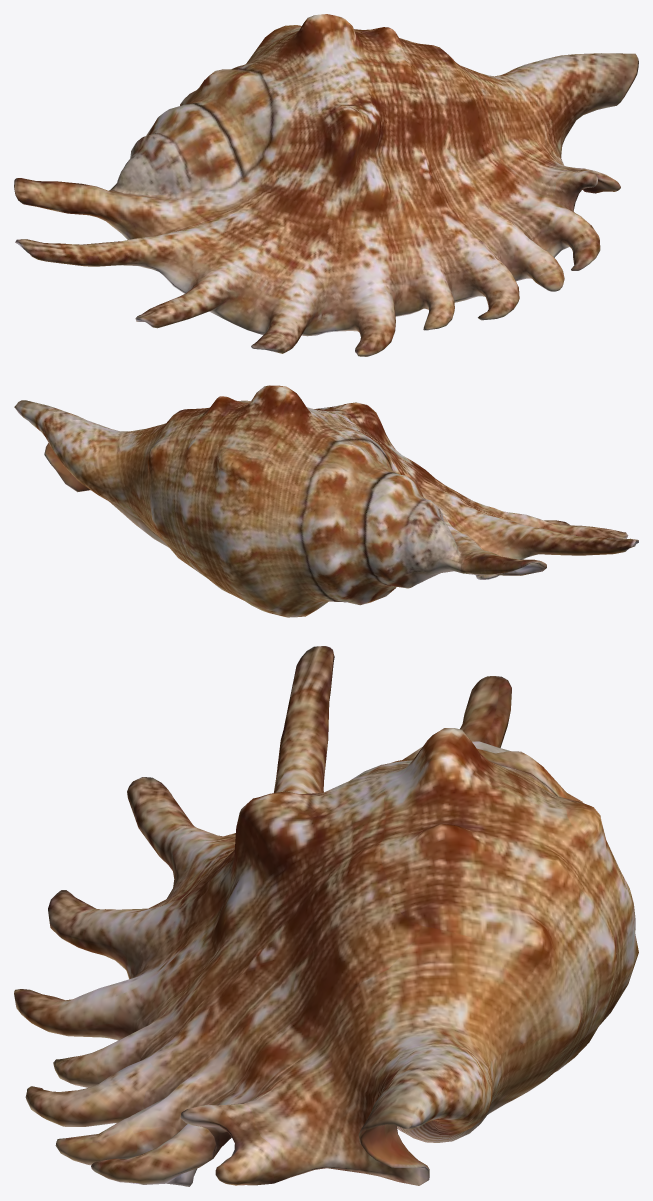
Rendered from lambis_shell.glb.
3 renders of one model, top to bottom at view 1: azimuth 30°, elevation 25°; view 2: azimuth 150°, elevation 25°; view 3: azimuth 270°, elevation 25°, orthographic. The views are drawn at different scales.
Parts seen in each view (by area): view 1: lambis_shell; view 2: lambis_shell; view 3: lambis_shell.
Boxes of the visible parts, <box> form: lambis_shell: <box>14,14,638,356</box>; lambis_shell: <box>14,385,638,617</box>; lambis_shell: <box>14,646,638,1186</box>.
Size of the model in its own units: 0.1395 by 0.0465 by 0.0745.
Materials: 1 (1 with a texture image).
